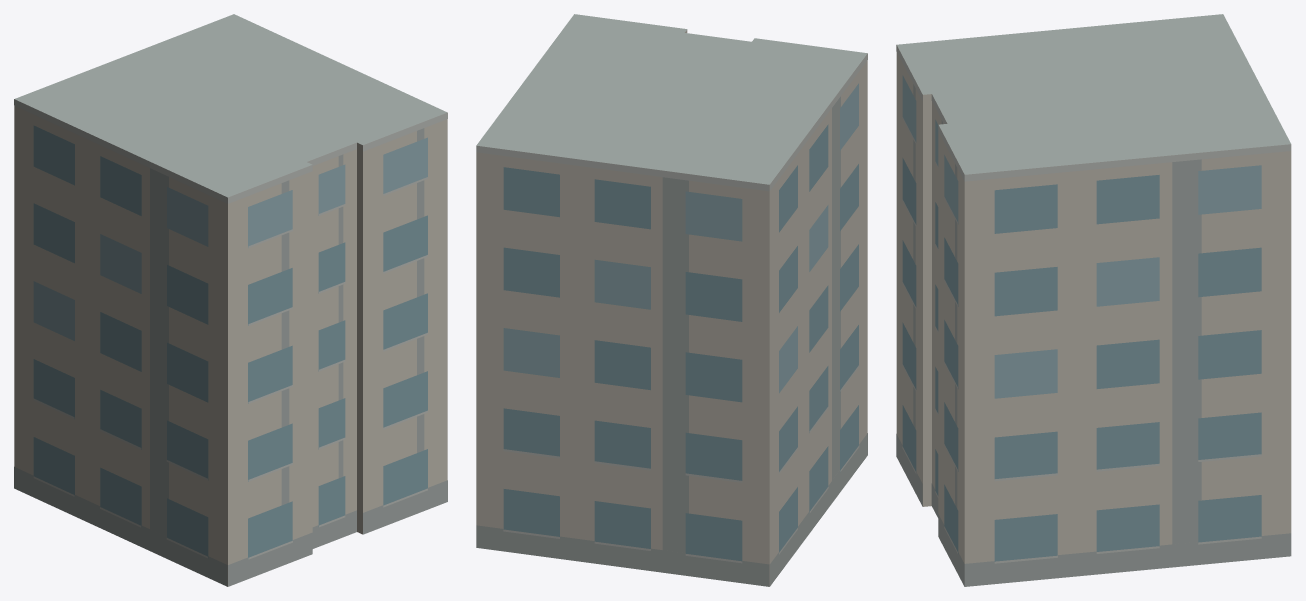
File: survey-upis-32812199.glb
3 views of the same model, side by side, from view 1: azimuth 30°, elevation 25°; view 2: azimuth 150°, elevation 25°; view 3: azimuth 270°, elevation 25° (orthographic). The views are drawn at different scales.
Parts seen in each view (by area): view 1: survey-upis-32812199.tmp; view 2: survey-upis-32812199.tmp; view 3: survey-upis-32812199.tmp.
Part boxes in pixels (x1=…): survey-upis-32812199.tmp: x1=14, y1=14, x2=447, y2=586; survey-upis-32812199.tmp: x1=476, y1=14, x2=867, y2=586; survey-upis-32812199.tmp: x1=896, y1=14, x2=1291, y2=586.
Size of the model in its own units: 12.35 by 14.75 by 12.82.
